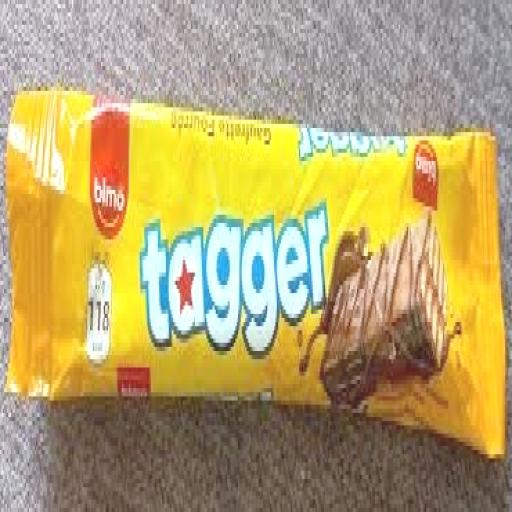tagger: (2, 20, 512, 500)
